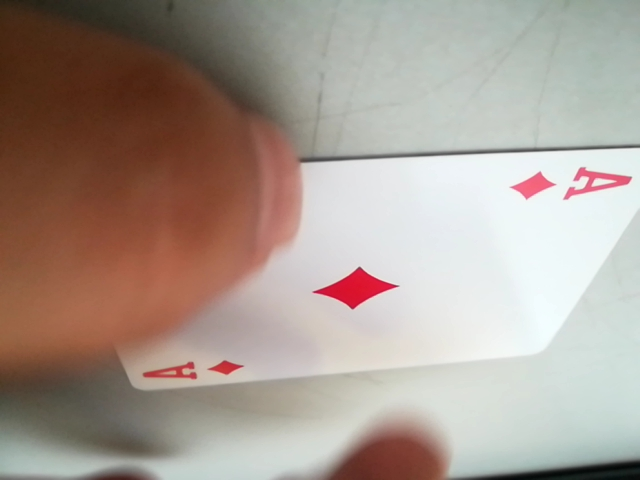fk a: (508, 159, 637, 208), (135, 351, 249, 389)
